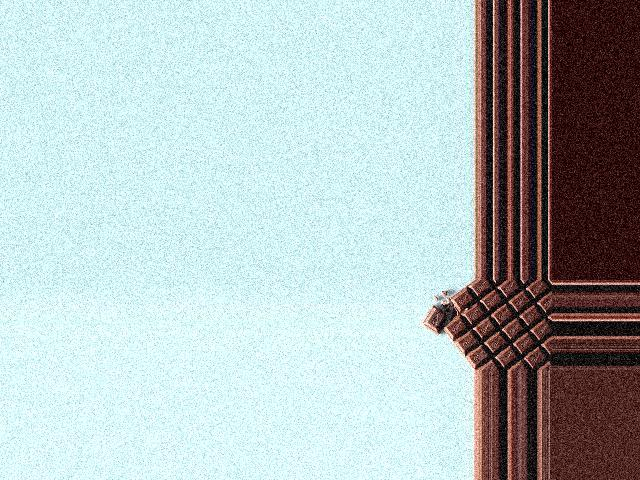chocolate: (436, 281, 552, 366)
